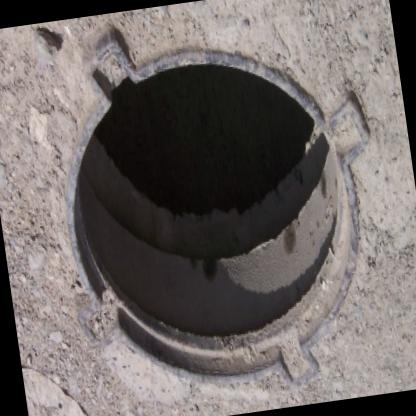manholes: (31, 6, 396, 416)
